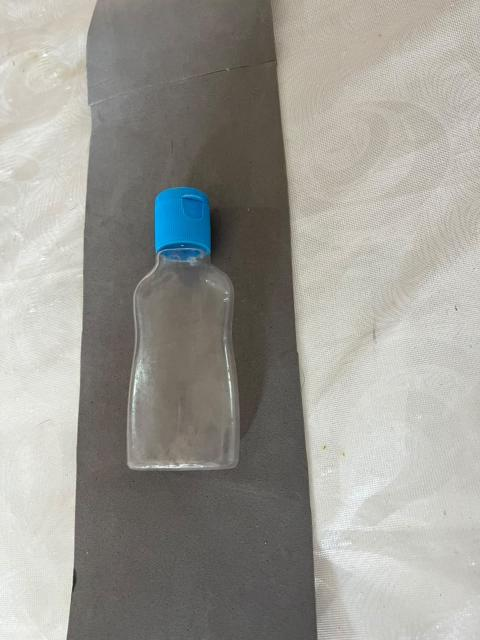PET: (95, 158, 272, 505)
